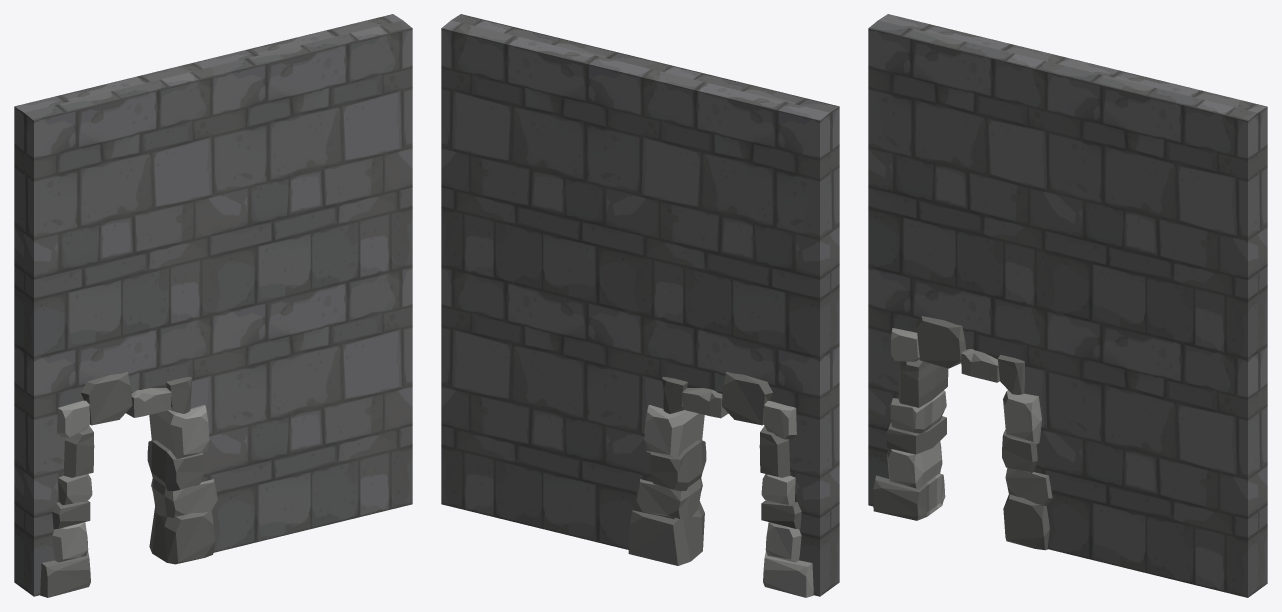
File: wall_l_door.gltf
3 renders of one model, left to right at view 1: azimuth 30°, elevation 25°; view 2: azimuth 150°, elevation 25°; view 3: azimuth 330°, elevation 25°, orthographic.
Visible parts, largest first — view 1: wall_l_door; view 2: wall_l_door; view 3: wall_l_door.
Boxes of the visible parts, x1=… form: wall_l_door: x1=14, y1=14, x2=412, y2=597; wall_l_door: x1=441, y1=14, x2=839, y2=597; wall_l_door: x1=868, y1=14, x2=1267, y2=597.
Size of the model in its own units: 5 by 6.04 by 0.7312.
2 materials, 2 textured.
